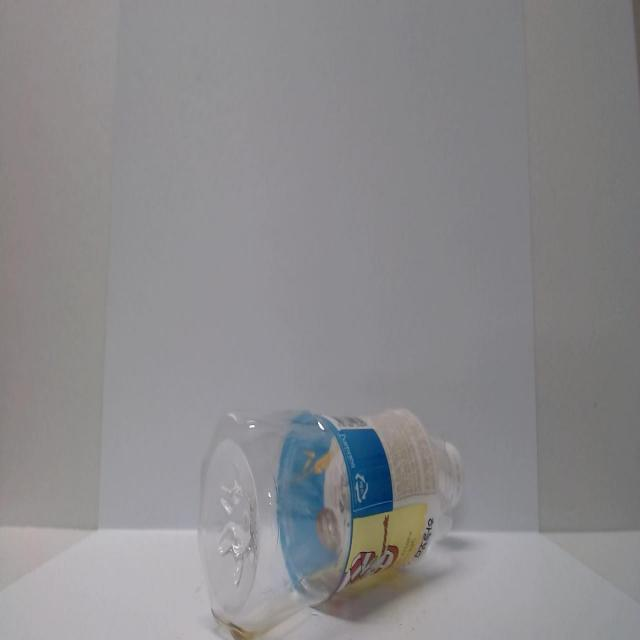bottle: (183, 397, 469, 620)
